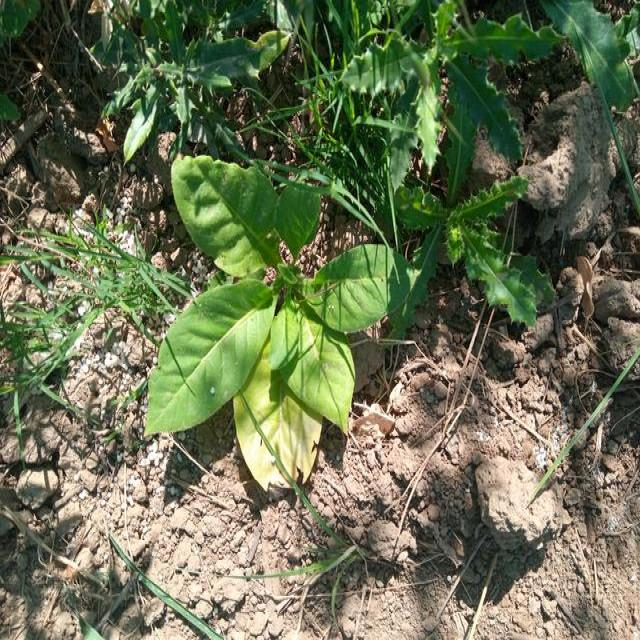crop: (146, 154, 418, 495)
